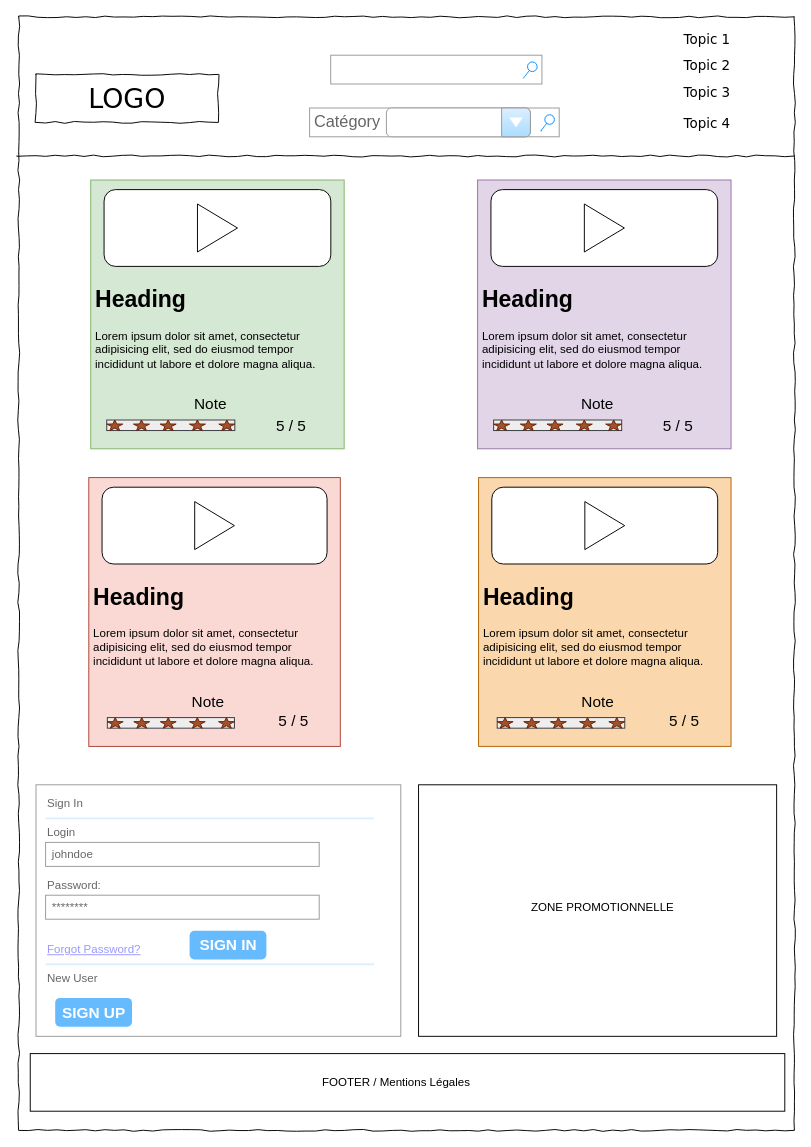
Image size: 811x1147. Some labels were removed from this diagram. The centre of each missing label's shape, as x and y in pixels:
"Acteurs" belongs at [436,69].
"Option 1" belongs at [457,122].
